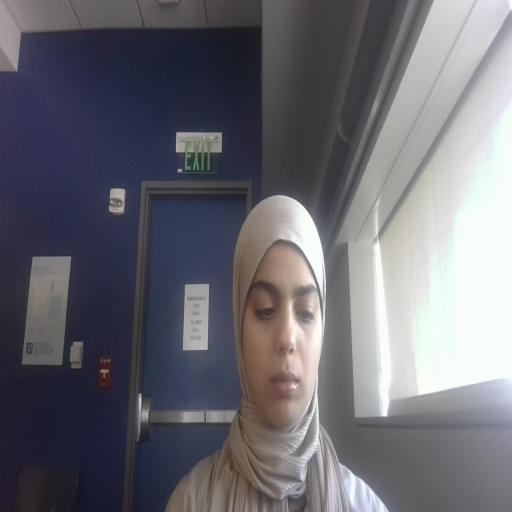lookingdownatphone: (240, 247, 331, 430)
